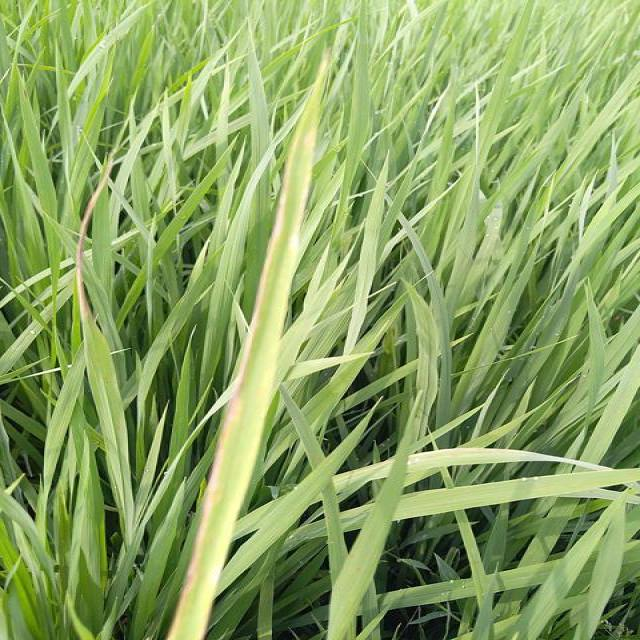Leaf Blight: (184, 87, 317, 584), (77, 163, 113, 346)
